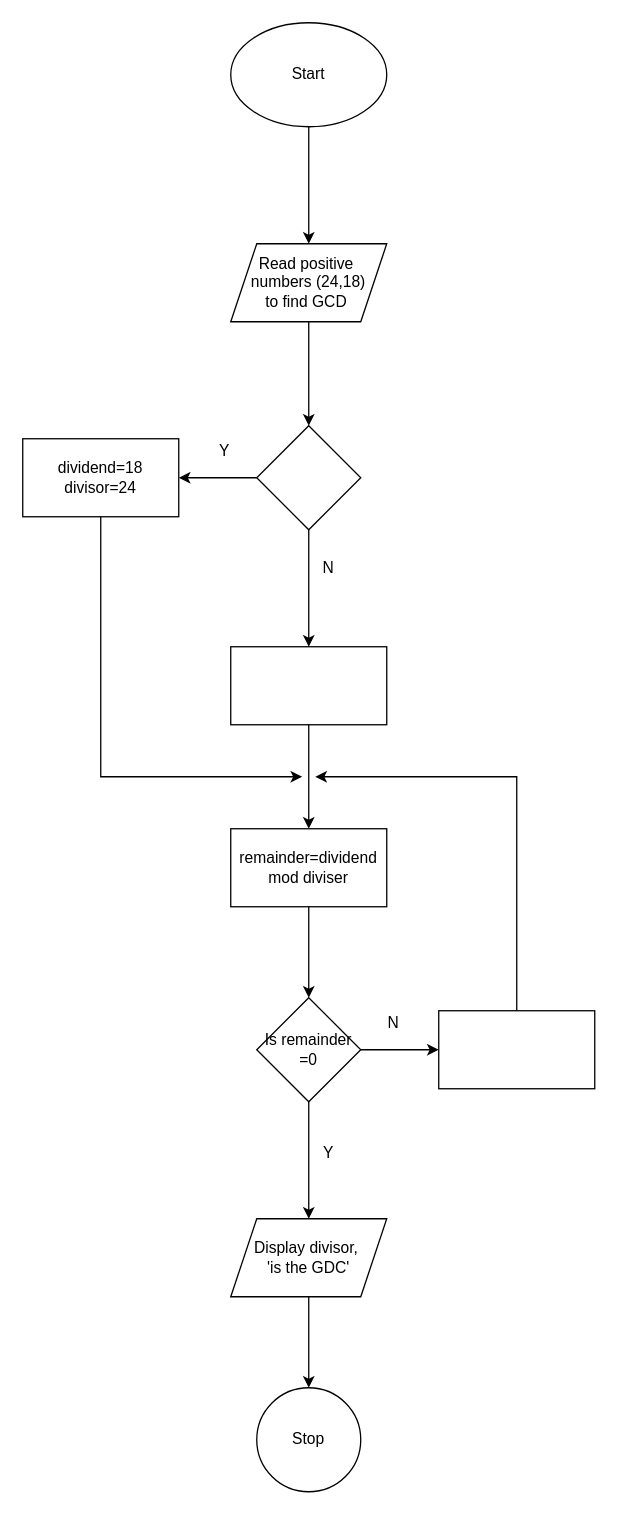
Some shapes in this 618 by 1515 pixel diagram are drawn without their labels. The shapes that lost their labels are listed below. From the top down, each one's centre as x and y in pixels, then its label:
[308,477]: Is a<b
[308,685]: dividend=24 divisor=18
[516,1049]: dividend=divisor divisor=remainder
